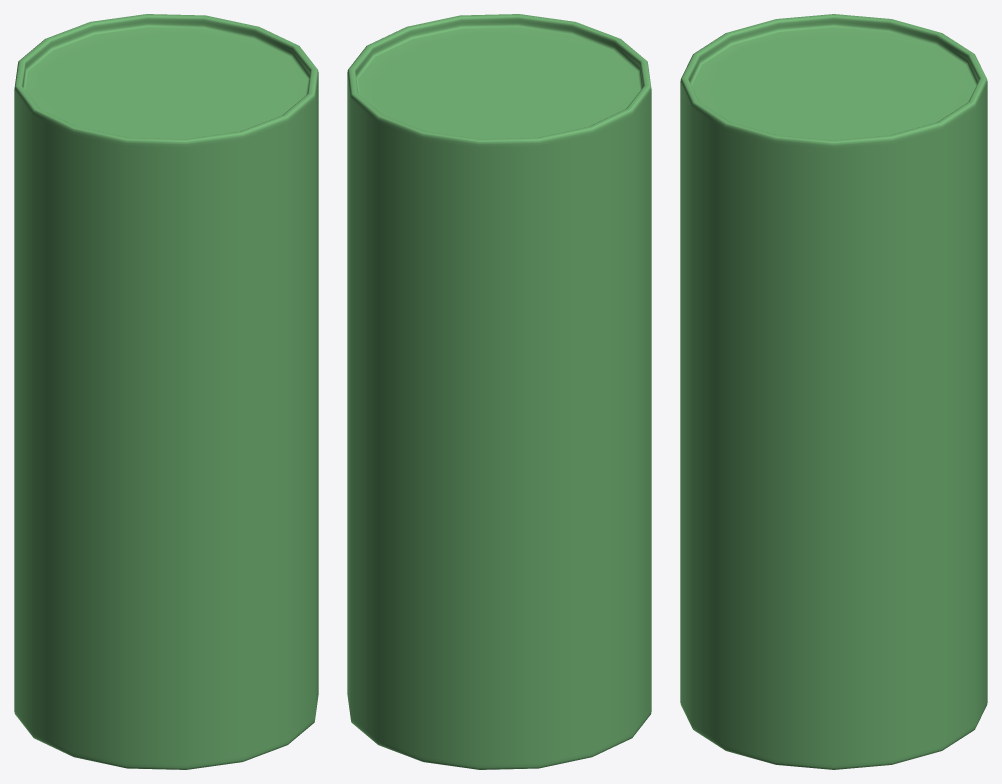
File: Fat_Can.fbx
3 renders of one model, left to right at view 1: azimuth 30°, elevation 25°; view 2: azimuth 150°, elevation 25°; view 3: azimuth 270°, elevation 25°, orthographic.
Visible parts, largest first — view 1: Tall_can; view 2: Tall_can; view 3: Tall_can.
Part boxes in pixels (box(x1,y1,x2,y2)): Tall_can: box(14, 14, 318, 769); Tall_can: box(347, 14, 651, 769); Tall_can: box(680, 14, 987, 769).
Size of the model in its own units: 2.58 by 5.81 by 2.58.
